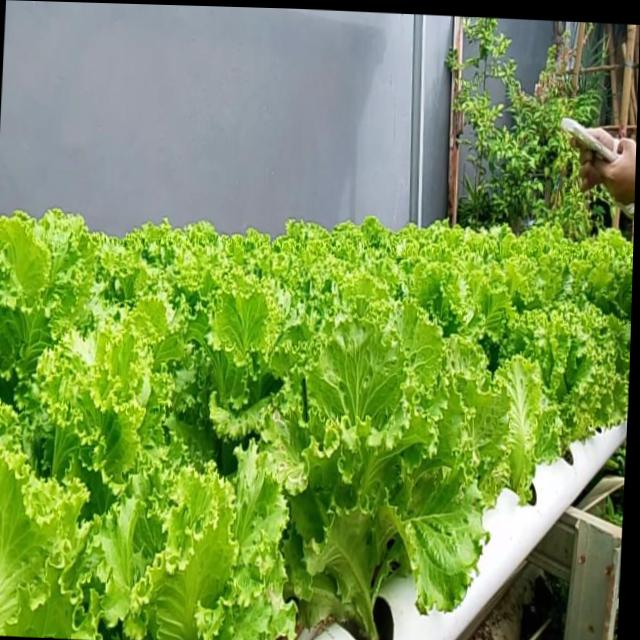Mature: (0, 213, 631, 640), (263, 335, 456, 632), (483, 276, 625, 487)
